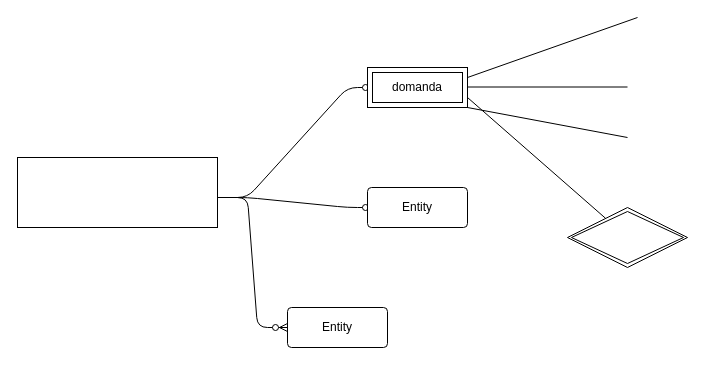
This 705x365 diagram has some shape labels left out. The shapes that lost their labels are listed below. From the top down, each one's centre as x and y in pixels, then its label:
[117,192]: D/R
[627,237]: riposta
